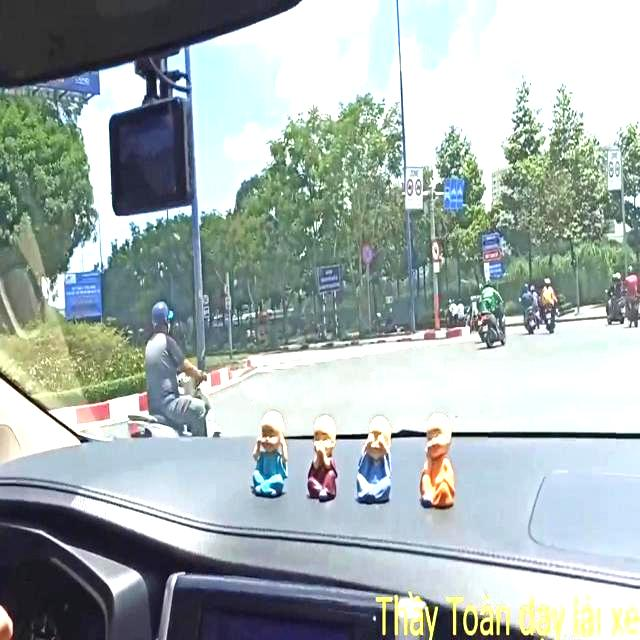Biển phụ: (204, 305, 210, 320), (433, 257, 439, 270)
Cấm các phương tiện hoạt động trong khung giờ cố định: (403, 162, 424, 212), (606, 147, 622, 193)
Cấm dừng - Cấm đỗ: (359, 242, 371, 262)
Cấm xe máy: (430, 237, 443, 259)
Giới hạn tốc độ: 60Km/h: (202, 293, 209, 305)
Giới hạn tốc độ: 80Km/h: (221, 280, 231, 295)
Khác: (60, 270, 105, 323), (481, 228, 503, 281), (316, 264, 342, 294)
Làn đường cho từng xe: (443, 173, 464, 210)
